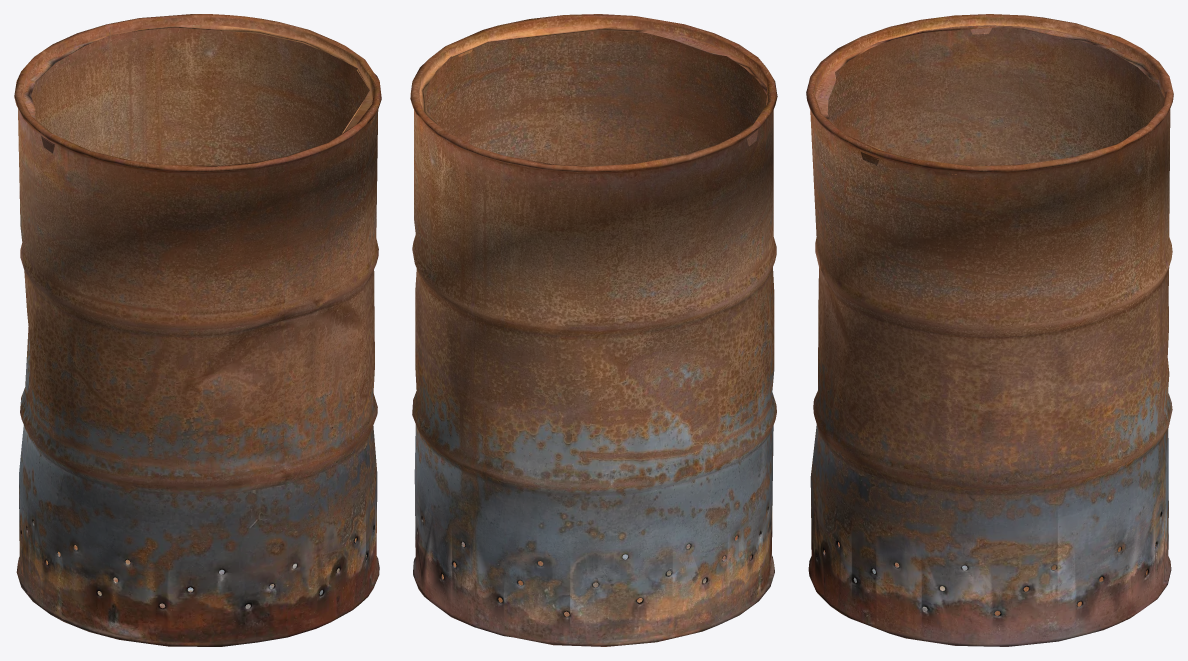
File: furnace.glb
3 renders of one model, left to right at view 1: azimuth 30°, elevation 25°; view 2: azimuth 150°, elevation 25°; view 3: azimuth 270°, elevation 25°, orthographic.
Parts seen in each view (by area): view 1: barrel_stove; view 2: barrel_stove; view 3: barrel_stove.
Part boxes in pixels (x1,y1,x2,y2): barrel_stove: (14, 14, 381, 646); barrel_stove: (410, 14, 777, 646); barrel_stove: (806, 14, 1173, 646).
Size of the model in its own units: 0.5901 by 0.8556 by 0.5925.
1 material, 1 textured.
